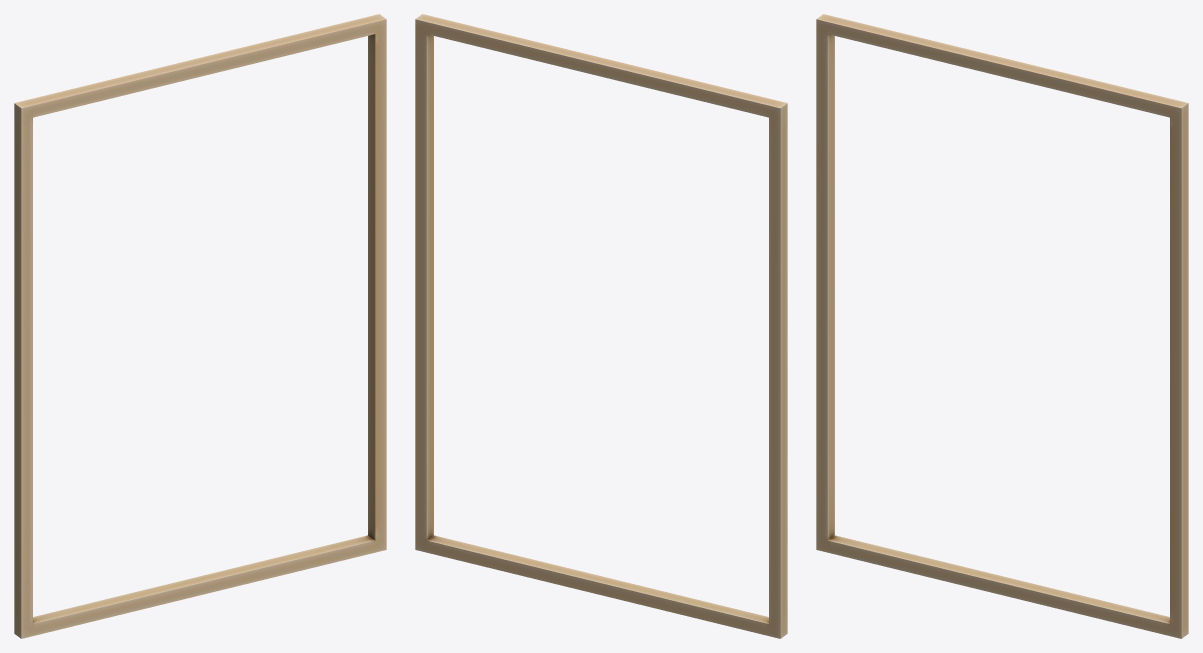
The model's file is frame.gltf.
The picture shows the model from 3 angles, left to right: view 1: azimuth 30°, elevation 25°; view 2: azimuth 150°, elevation 25°; view 3: azimuth 330°, elevation 25°; orthographic projection.
Visible parts, largest first — view 1: DECO002; view 2: DECO002; view 3: DECO002.
Part boxes in pixels (box(x1,y1,x2,y2)): DECO002: box(14, 14, 386, 638); DECO002: box(415, 14, 787, 638); DECO002: box(816, 14, 1188, 638).
Bounding box in the file's own units: 0.8844 × 1.23 × 0.0303.
